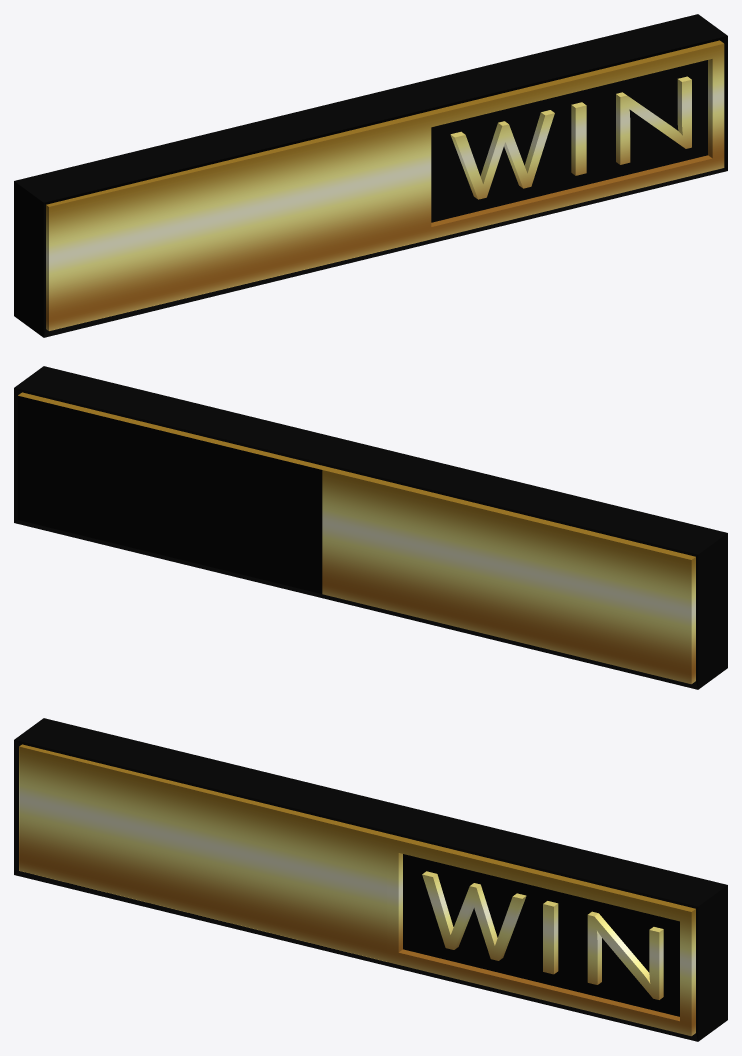
Rendered from SpinningSign.FBX.
3 views of the same model, one above another, from view 1: azimuth 30°, elevation 25°; view 2: azimuth 150°, elevation 25°; view 3: azimuth 330°, elevation 25° (orthographic).
Parts seen in each view (by area): view 1: LeftBlock, RightBlock, WinText; view 2: LeftBlock, RightBlock; view 3: LeftBlock, RightBlock, WinText.
Boxes of the visible parts, x1,y1,x2,y2 form: LeftBlock: [14, 89, 419, 337]; RightBlock: [389, 14, 727, 246]; WinText: [450, 76, 691, 199]; LeftBlock: [322, 441, 727, 689]; RightBlock: [14, 366, 352, 598]; LeftBlock: [14, 718, 417, 965]; RightBlock: [387, 809, 727, 1041]; WinText: [422, 871, 663, 999].
Size of the model in its own units: 265 by 50 by 22.
